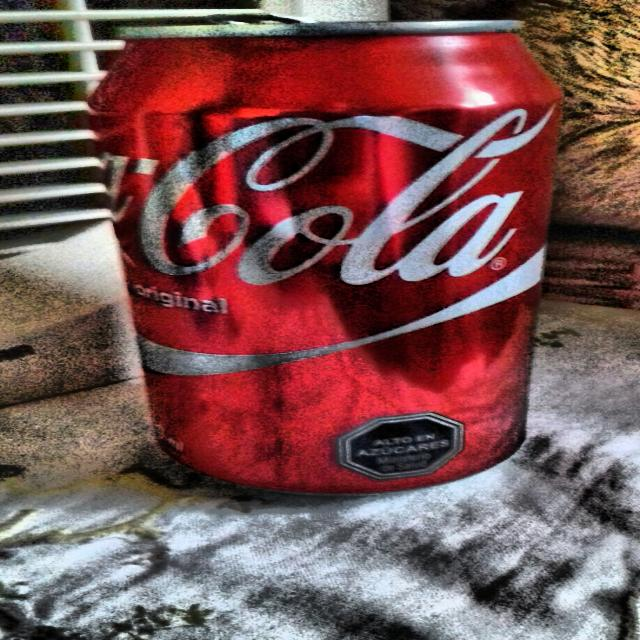Cans: (72, 0, 570, 510)
